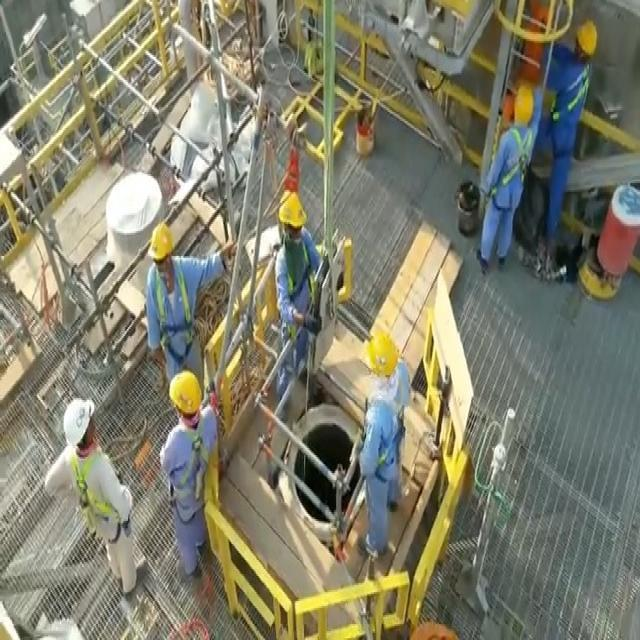No_BreathingApparatus: (180, 405, 202, 432)
No_Harness: (153, 272, 192, 355)
Person: (521, 15, 593, 284), (270, 195, 330, 456), (157, 377, 212, 598), (64, 422, 121, 573), (149, 242, 197, 415), (277, 213, 324, 368)
